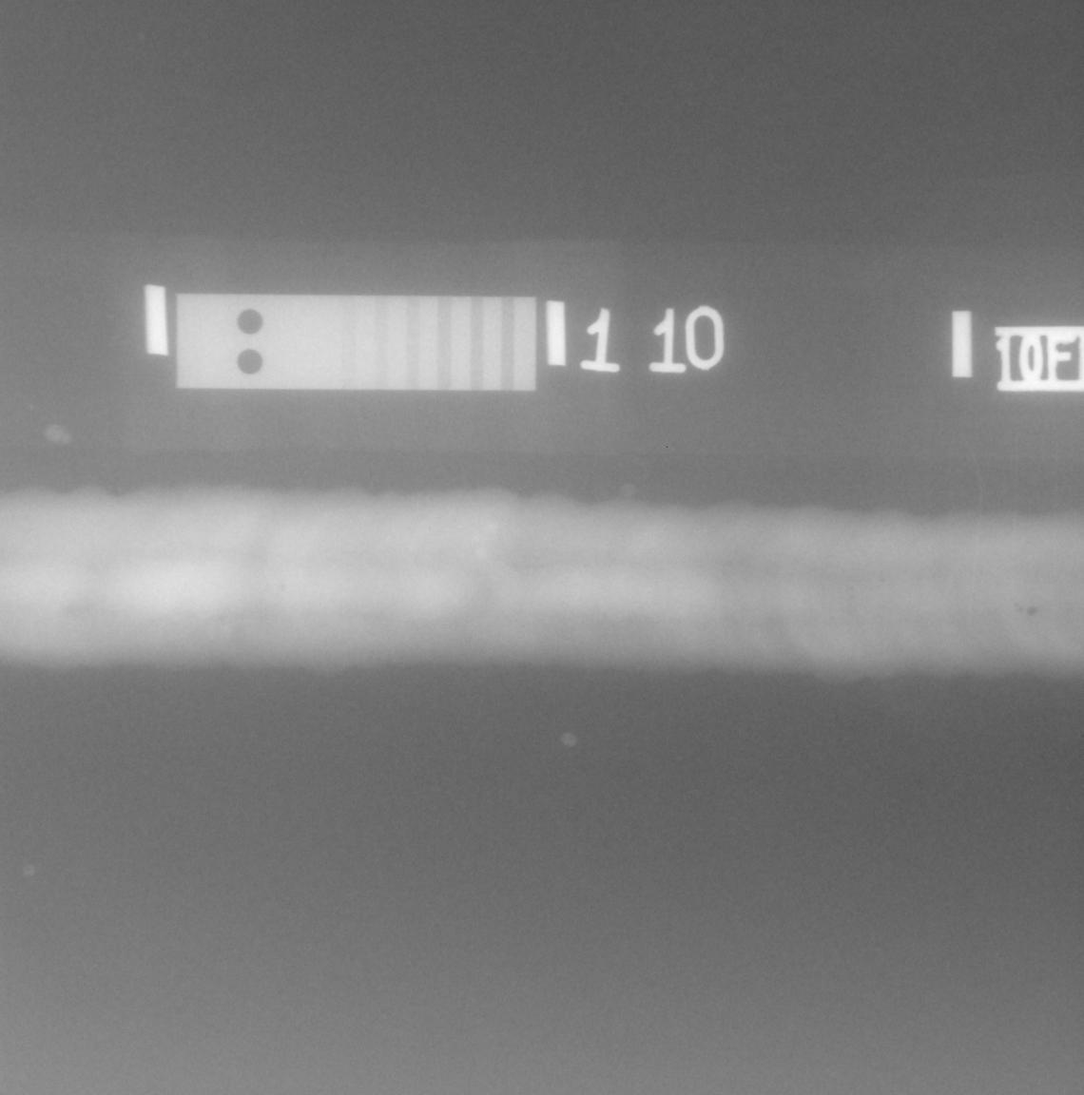Pore/Porosity: (1027, 607, 1037, 614), (1018, 607, 1025, 613), (279, 585, 284, 591), (1014, 603, 1019, 607)
Reference Standard 2: (175, 294, 537, 391)
